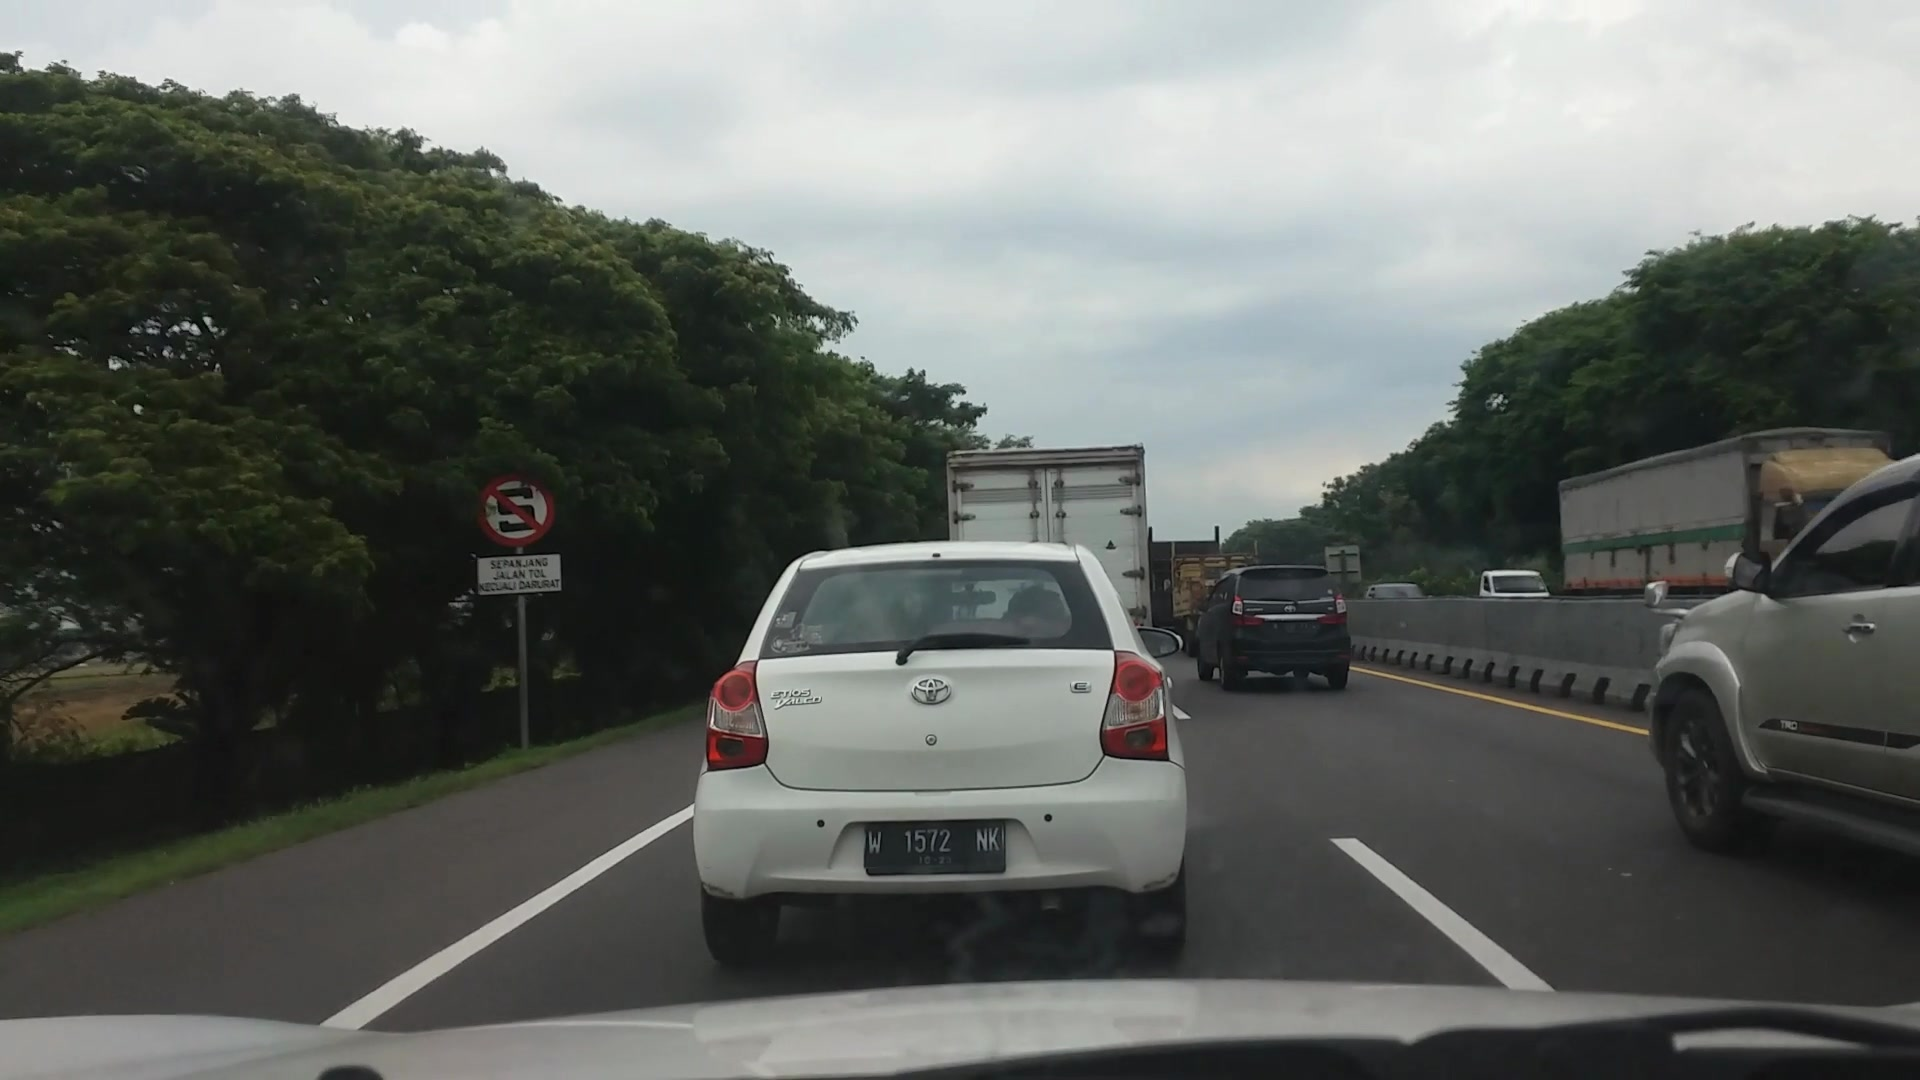plate_positive: (862, 820, 1006, 876)
